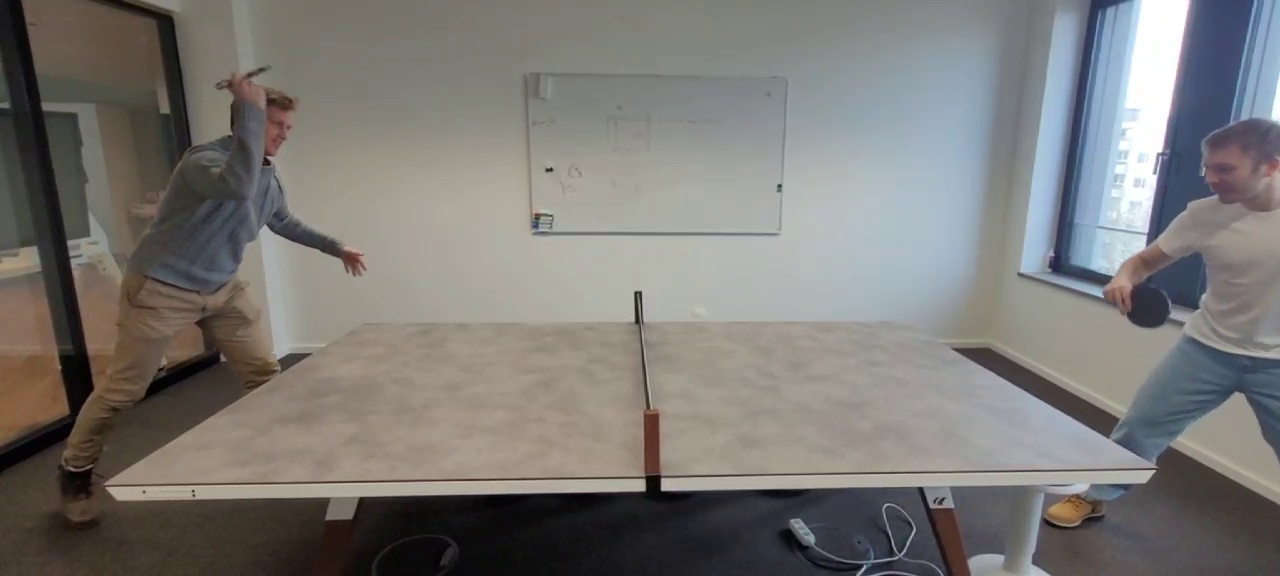1: (1127, 284, 1171, 328), (242, 65, 271, 79)
2: (690, 307, 707, 318)
ttplatte: (104, 320, 1156, 485)
